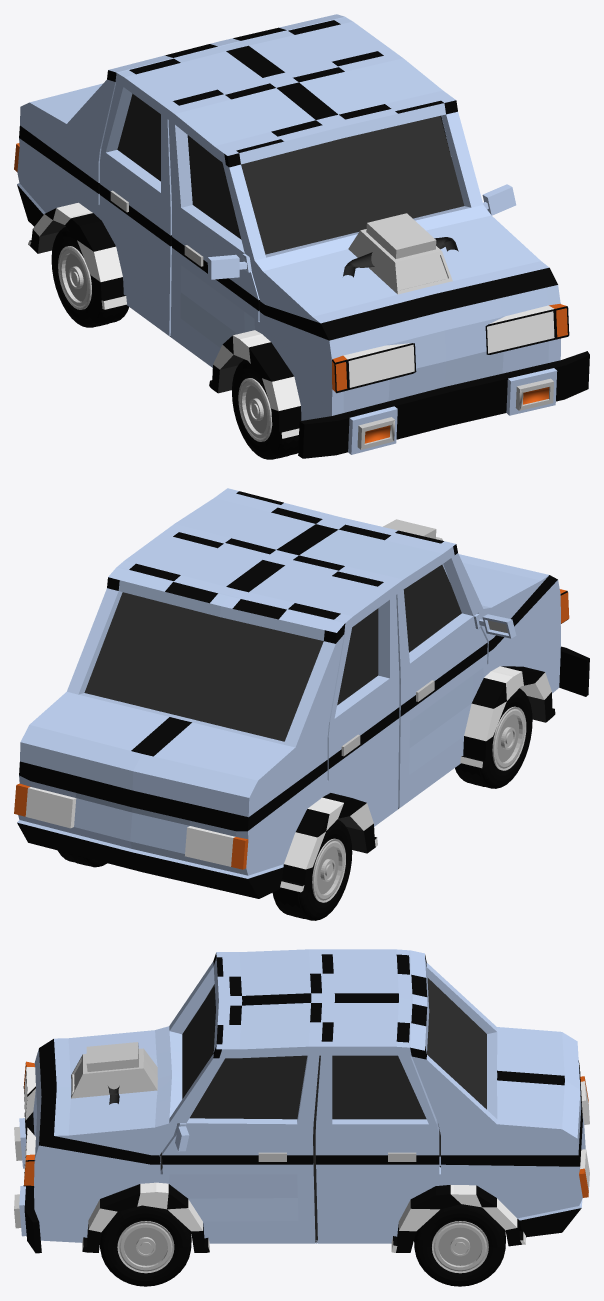
The picture shows the model from 3 angles, top to bottom: view 1: azimuth 30°, elevation 25°; view 2: azimuth 150°, elevation 25°; view 3: azimuth 270°, elevation 25°; orthographic projection. The views are drawn at different scales.
Visible parts, largest first — view 1: BODY48B, WHEEL.004, WHEEL.001; view 2: BODY48B, WHEEL.004, WHEEL.001; view 3: BODY48B, WHEEL.002, WHEEL.003.
Boxes of the visible parts, left/top/right/bottom form: BODY48B: left=14, top=14, right=589, bottom=458; WHEEL.004: left=51, top=227, right=128, bottom=327; WHEEL.001: left=232, top=359, right=298, bottom=459; BODY48B: left=14, top=488, right=589, bottom=898; WHEEL.004: left=272, top=819, right=352, bottom=920; WHEEL.001: left=455, top=688, right=532, bottom=788; BODY48B: left=14, top=949, right=589, bottom=1253; WHEEL.002: left=414, top=1204, right=505, bottom=1286; WHEEL.003: left=100, top=1205, right=191, bottom=1286.
Size of the model in its own units: 131 by 111 by 245.
